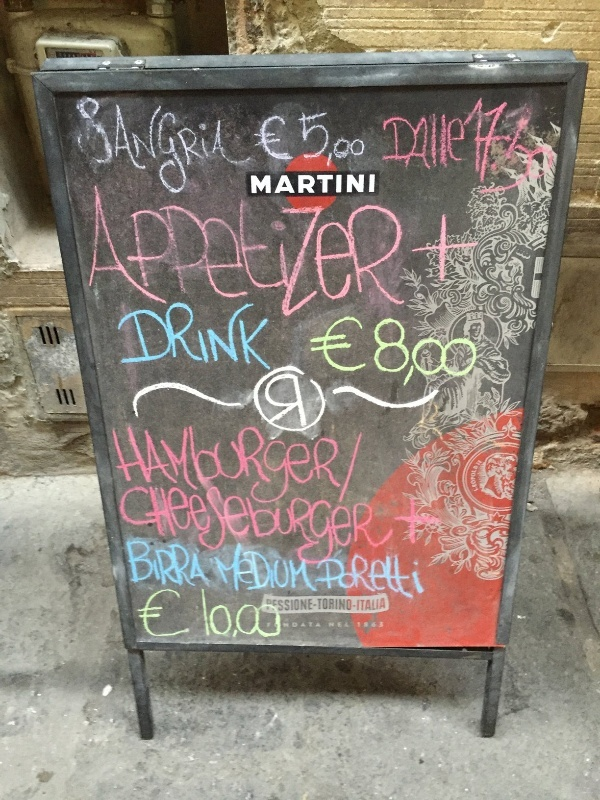text: (81, 97, 96, 233), (97, 97, 112, 233), (113, 97, 128, 233), (129, 97, 144, 233), (145, 97, 160, 233), (161, 97, 176, 233), (177, 97, 192, 233), (193, 97, 208, 233), (209, 97, 224, 233), (225, 97, 240, 233), (97, 183, 112, 314), (113, 183, 128, 314), (129, 183, 144, 314), (145, 183, 160, 314), (161, 183, 176, 314), (177, 183, 192, 314), (193, 183, 208, 314), (209, 183, 224, 314), (225, 183, 240, 314), (241, 183, 256, 314), (257, 183, 272, 314), (273, 183, 288, 314), (289, 183, 304, 314), (305, 183, 320, 314), (321, 183, 336, 314), (337, 183, 352, 314), (353, 183, 368, 314), (369, 183, 384, 314), (385, 183, 400, 314), (241, 97, 253, 233), (465, 97, 480, 200), (481, 97, 496, 200), (497, 97, 512, 200), (513, 97, 528, 200), (529, 97, 544, 200), (353, 415, 369, 509), (113, 415, 128, 509), (129, 415, 144, 509), (145, 415, 160, 509), (161, 415, 176, 509), (177, 415, 192, 509), (193, 415, 208, 509), (209, 415, 224, 509), (225, 415, 240, 509), (241, 415, 256, 509), (257, 415, 272, 509), (273, 415, 288, 509), (289, 415, 304, 509), (305, 415, 320, 509), (321, 415, 336, 509), (337, 415, 352, 509), (129, 484, 144, 570), (145, 484, 160, 570), (161, 484, 176, 570), (177, 484, 192, 570), (193, 484, 208, 570), (209, 484, 224, 570), (225, 484, 240, 570), (241, 484, 256, 570), (257, 484, 272, 570), (273, 484, 288, 570), (289, 484, 304, 570), (305, 484, 320, 570), (321, 484, 336, 570), (337, 484, 352, 570), (353, 484, 368, 570), (369, 484, 384, 570), (417, 208, 432, 285), (433, 208, 448, 285), (449, 208, 464, 285), (465, 208, 480, 285), (129, 299, 144, 375), (145, 299, 160, 375), (161, 299, 176, 375), (177, 299, 192, 375), (193, 299, 208, 375), (209, 299, 224, 375), (225, 299, 240, 375), (241, 299, 256, 375), (545, 97, 556, 200), (385, 316, 400, 388), (401, 316, 416, 388), (417, 316, 432, 388), (433, 316, 448, 388), (449, 316, 464, 388), (257, 299, 271, 375), (88, 183, 96, 314), (385, 484, 397, 570), (273, 369, 288, 436), (289, 369, 304, 436), (117, 484, 128, 570), (116, 299, 128, 375), (401, 496, 416, 555), (417, 496, 432, 555), (321, 314, 336, 373), (337, 314, 352, 373), (465, 316, 477, 388), (385, 115, 400, 172), (401, 115, 416, 172), (417, 115, 432, 172), (433, 115, 448, 172), (449, 115, 464, 172), (305, 110, 320, 167), (321, 110, 336, 167), (337, 110, 352, 167), (373, 316, 384, 388), (145, 587, 160, 639), (161, 587, 176, 639), (177, 587, 192, 639), (353, 314, 366, 373), (209, 591, 224, 642), (225, 591, 240, 642), (241, 591, 256, 642), (257, 591, 272, 642), (225, 542, 240, 593), (241, 542, 256, 593), (257, 542, 272, 593), (273, 542, 288, 593), (289, 542, 304, 593), (257, 112, 272, 163), (273, 112, 288, 163), (321, 552, 336, 599), (337, 552, 352, 599), (353, 552, 368, 599), (369, 552, 384, 599), (385, 552, 400, 599), (401, 552, 416, 599), (129, 540, 144, 587), (145, 540, 160, 587), (161, 540, 176, 587), (177, 540, 192, 587), (193, 540, 208, 587), (353, 110, 365, 167), (305, 542, 318, 593), (401, 183, 406, 314), (433, 496, 443, 555), (310, 314, 320, 373), (213, 542, 224, 593), (76, 97, 80, 233), (264, 369, 272, 436), (273, 591, 282, 642), (417, 552, 426, 599), (136, 587, 144, 639), (393, 496, 400, 555), (411, 208, 416, 285), (257, 173, 272, 197), (273, 173, 288, 197), (289, 173, 304, 197), (305, 173, 320, 197), (321, 173, 336, 197), (337, 173, 352, 197), (353, 173, 368, 197), (201, 591, 208, 642), (298, 110, 304, 167), (289, 112, 295, 163), (305, 369, 308, 436), (369, 599, 385, 611), (209, 540, 213, 587), (273, 599, 288, 611), (289, 599, 304, 611), (305, 599, 320, 611), (321, 599, 336, 611), (337, 599, 352, 611), (353, 599, 368, 611), (381, 115, 384, 172), (369, 173, 376, 197), (317, 552, 320, 599), (251, 173, 256, 197), (126, 540, 128, 587), (481, 208, 482, 285), (267, 599, 272, 611), (193, 587, 194, 639), (255, 112, 256, 163)
